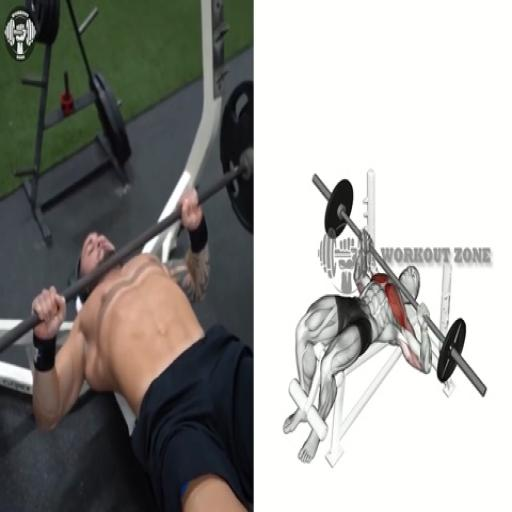exercise: (28, 186, 253, 511), (282, 229, 434, 466)
